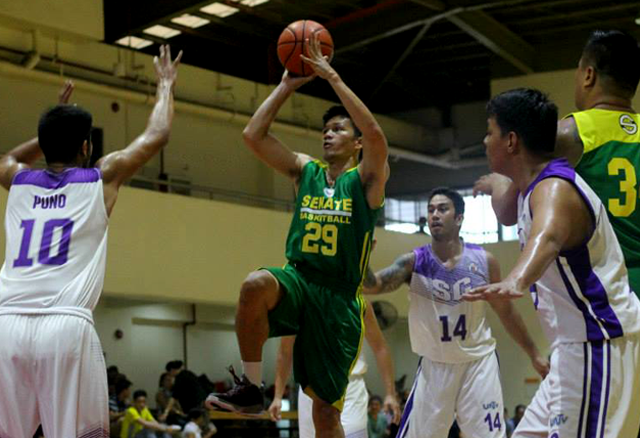ball: (275, 19, 336, 75)
player: (1, 42, 179, 436), (209, 55, 392, 435), (478, 91, 639, 438), (381, 190, 513, 438), (559, 28, 640, 271)
